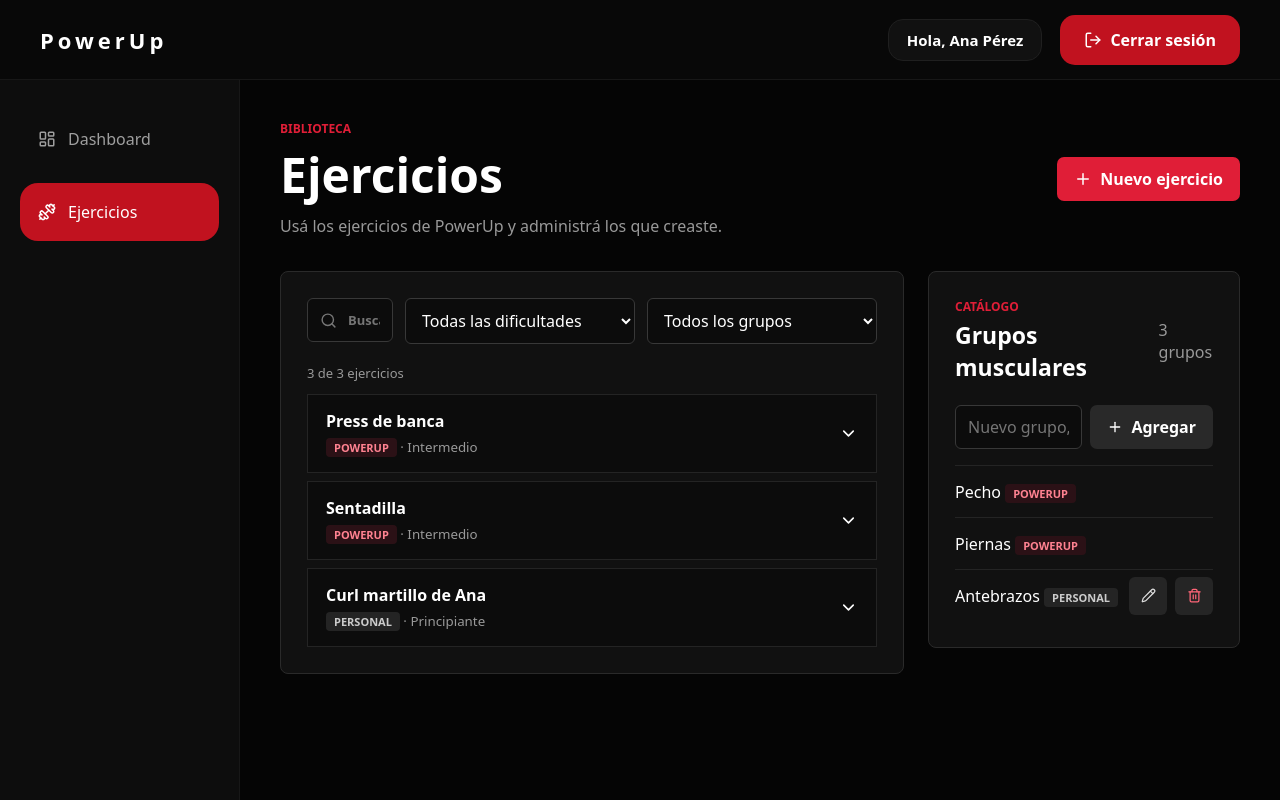
Test: catálogo de ejercicios › un usuario solo puede editar sus ejercicios, no los globales
This screenshot has width=1280, height=800.
Click the button "Press de banca PowerUp · Intermedio".
click(385, 421)  # box [308,395,876,472]
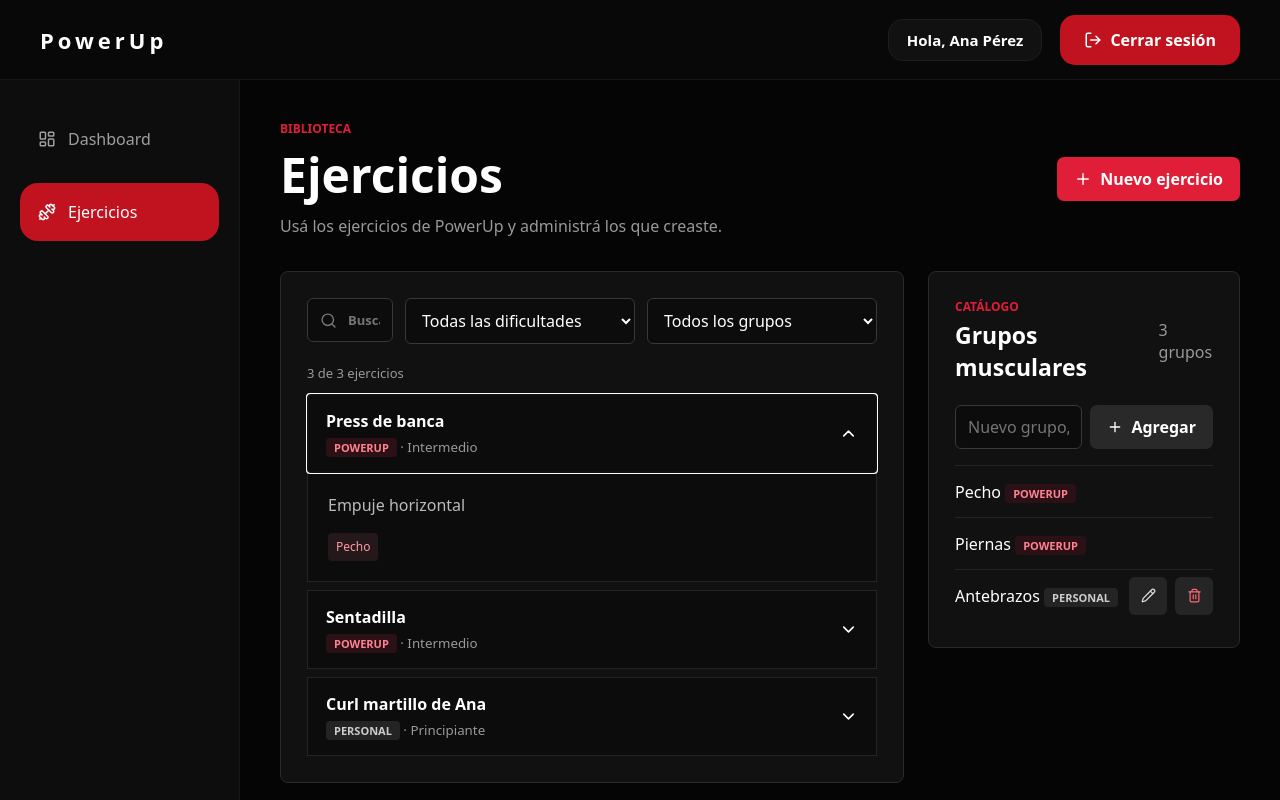
Check: the button "Editar" is not shown
Click the button "Curl martillo de Ana Personal · Principiante".
click(406, 704)  # box [308,678,876,755]
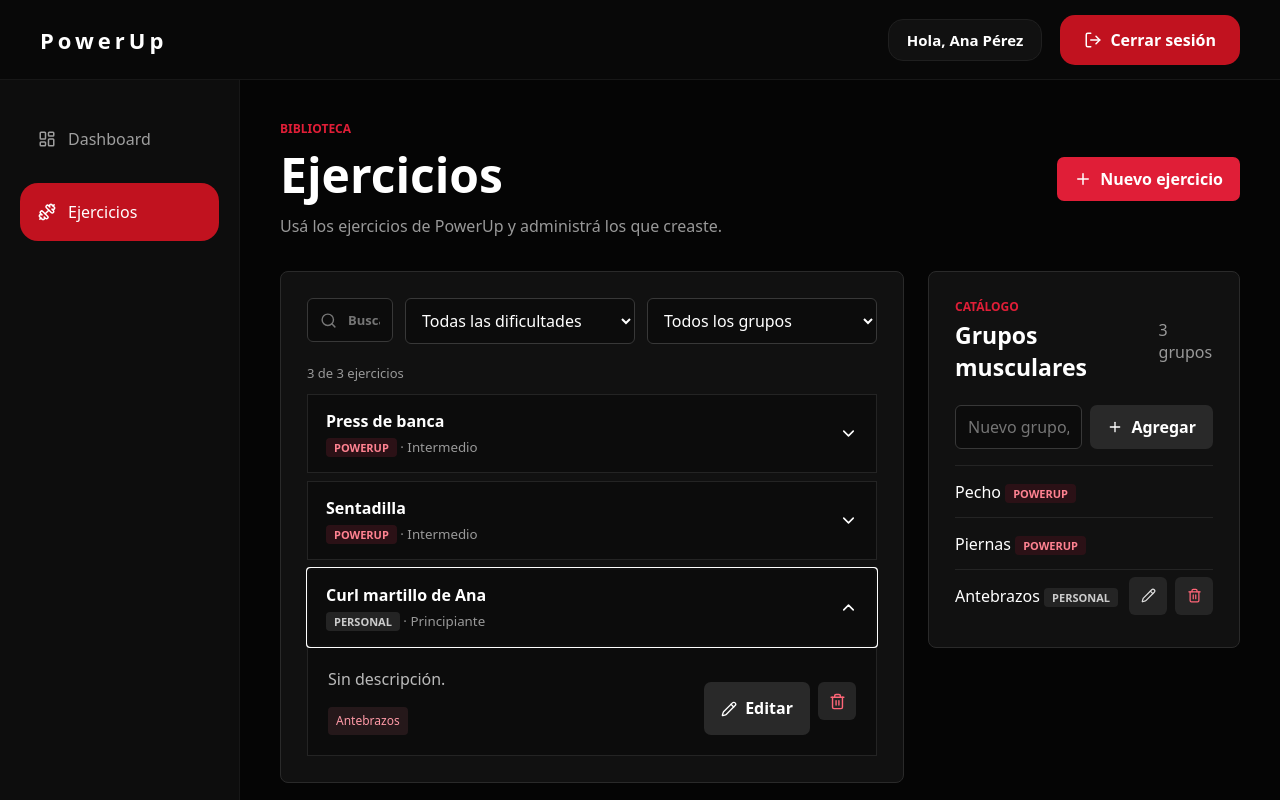
Check: the button "Editar" is shown, box [704,682,810,735]
